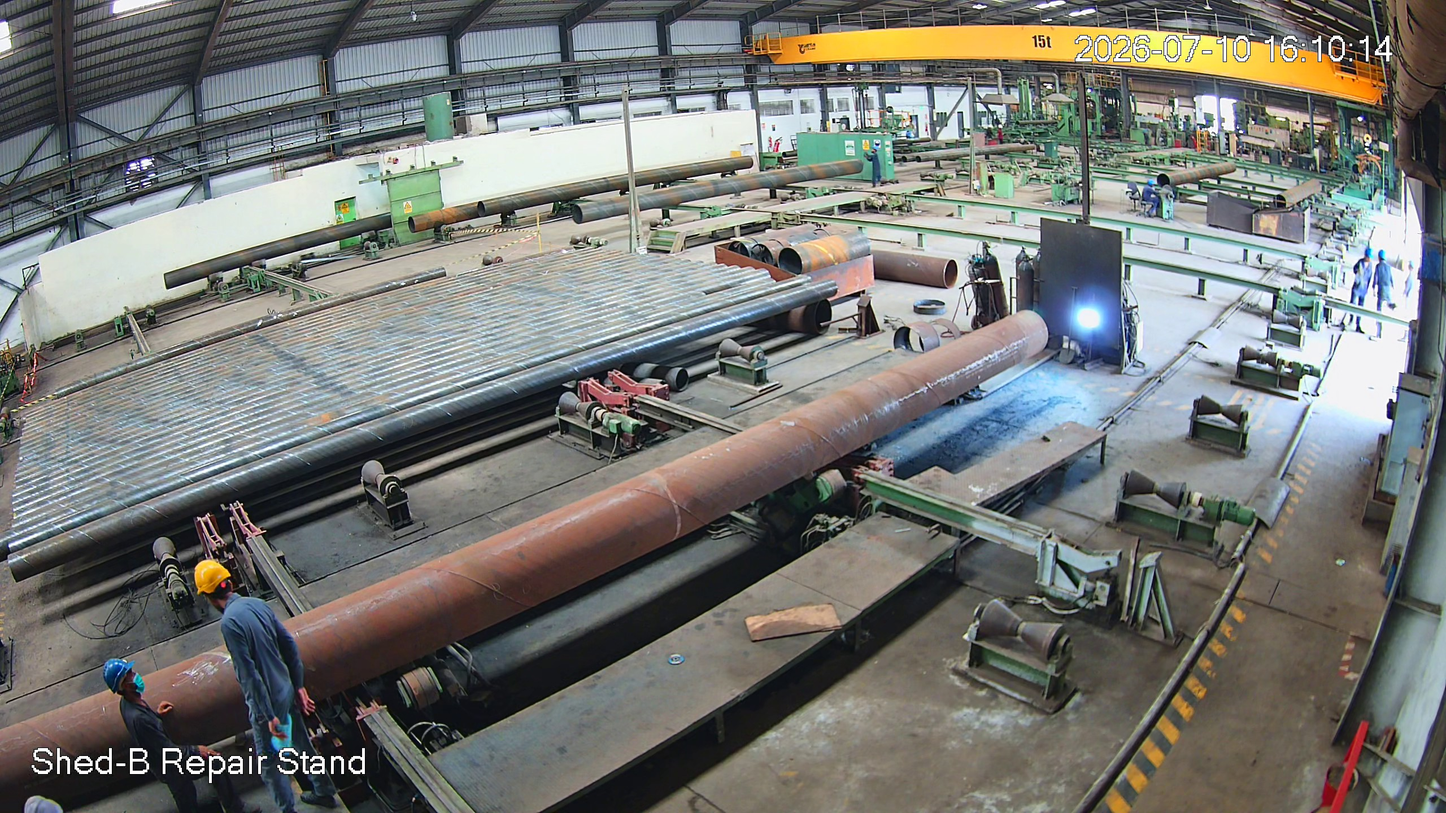Helmet: (83, 650, 164, 713), (184, 547, 254, 613), (1362, 245, 1378, 270), (1376, 249, 1394, 266)
Person: (191, 552, 332, 813), (98, 654, 243, 813), (1346, 247, 1376, 340), (1379, 249, 1400, 344)
